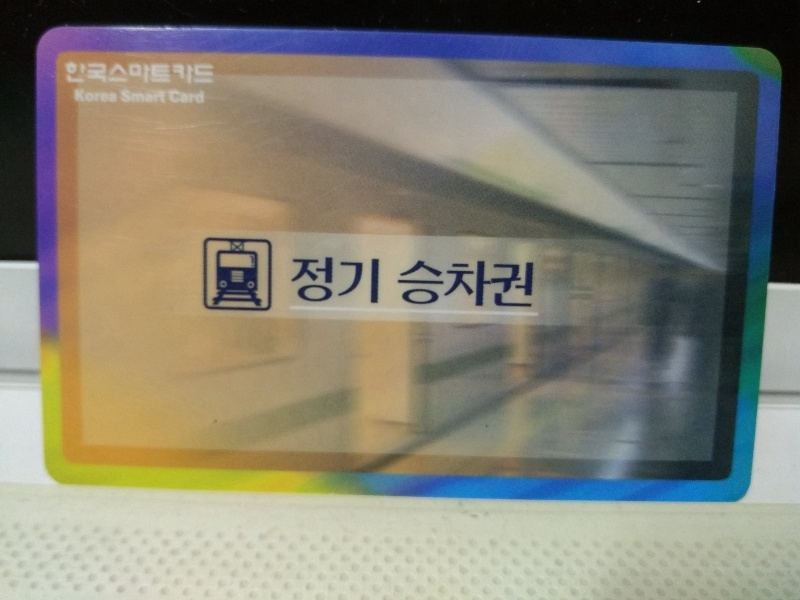text: (401, 258, 416, 311), (417, 258, 432, 311), (433, 258, 448, 311), (449, 258, 464, 311), (465, 258, 480, 311), (481, 258, 496, 311), (497, 258, 512, 311), (513, 258, 528, 311), (305, 256, 320, 307), (321, 256, 336, 307), (337, 256, 352, 307), (353, 256, 368, 307), (290, 256, 304, 307), (369, 256, 382, 307), (529, 258, 537, 311), (65, 61, 80, 86), (81, 61, 96, 86), (97, 61, 112, 86), (113, 61, 128, 86), (129, 61, 144, 86), (145, 61, 160, 86), (161, 61, 176, 86), (177, 61, 192, 86), (193, 61, 208, 86), (81, 88, 96, 106), (97, 88, 112, 106), (129, 88, 144, 106), (145, 88, 160, 106), (177, 89, 192, 107), (193, 89, 206, 107), (396, 258, 400, 311), (209, 61, 215, 86), (121, 88, 128, 106), (169, 89, 176, 107), (74, 88, 80, 106), (161, 88, 167, 106), (113, 88, 117, 106)
